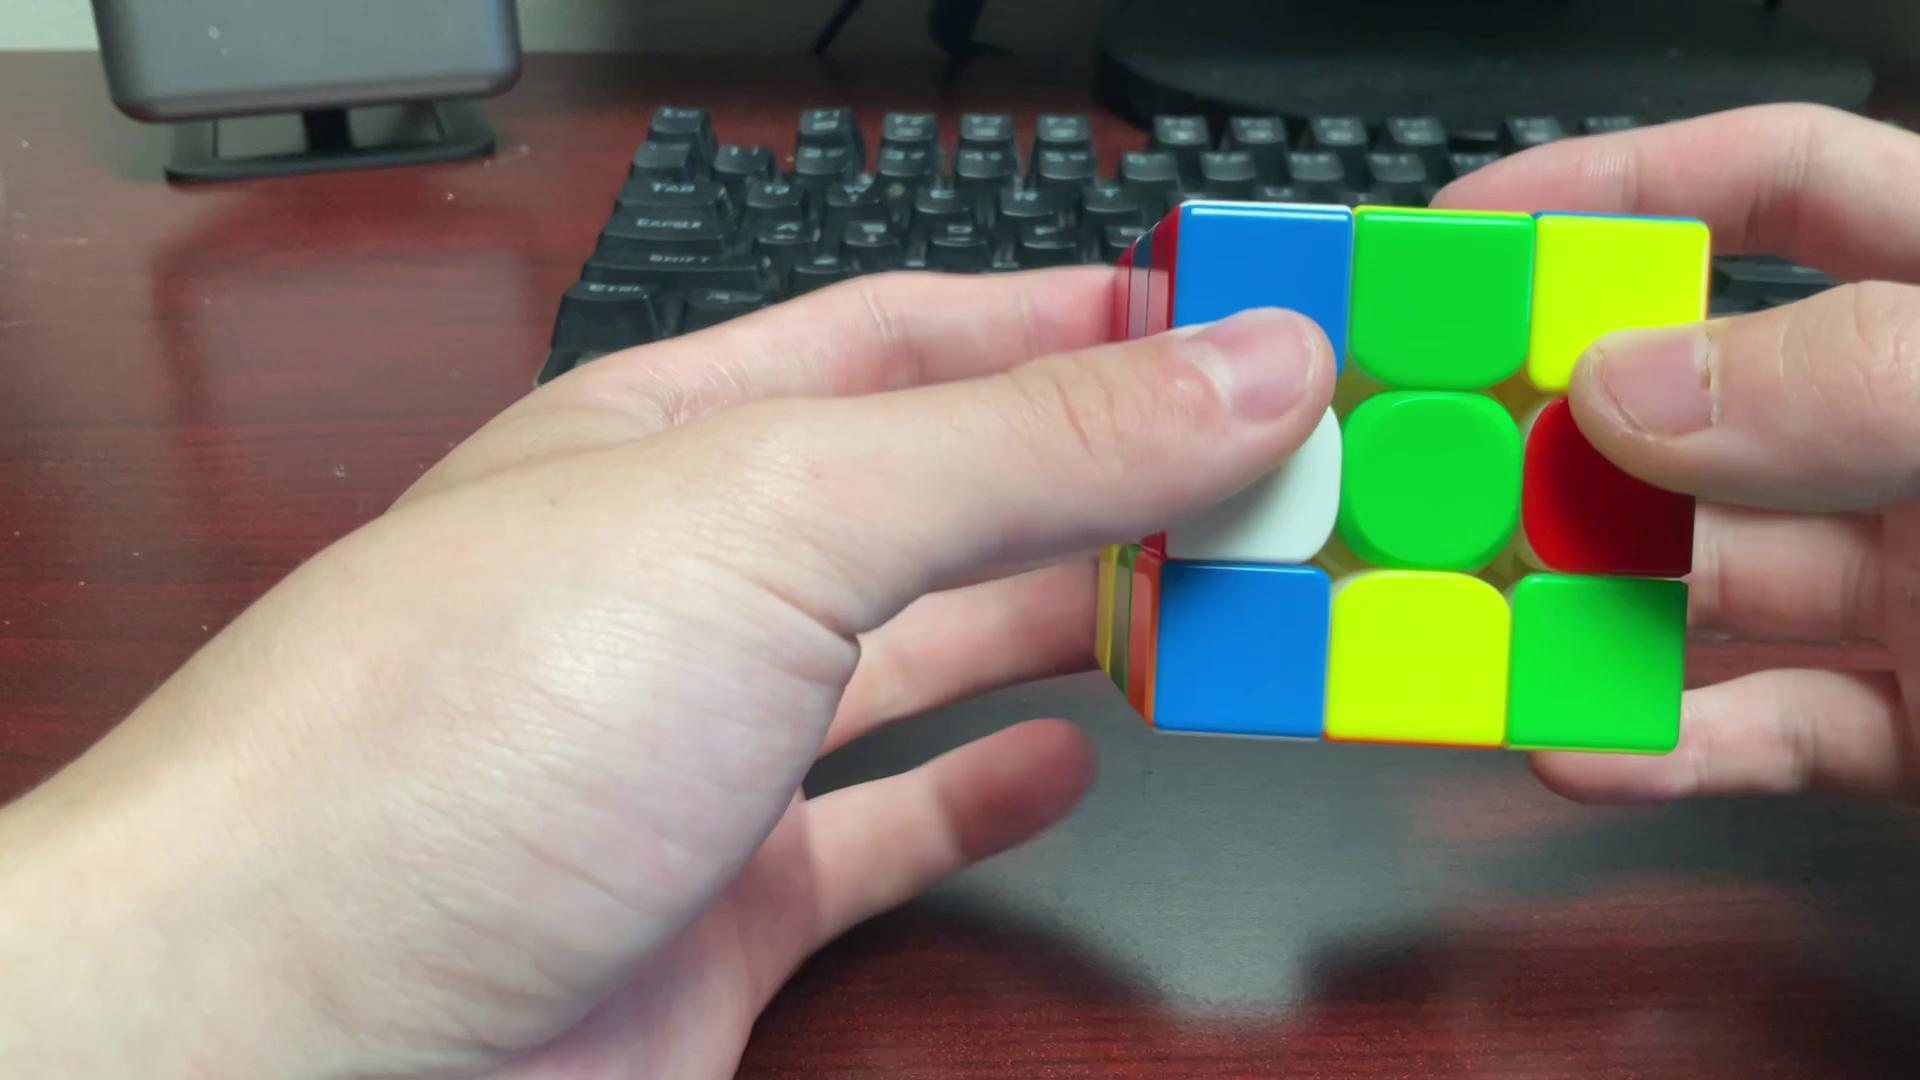Rubiks-Cube: (1076, 178, 1714, 754)
